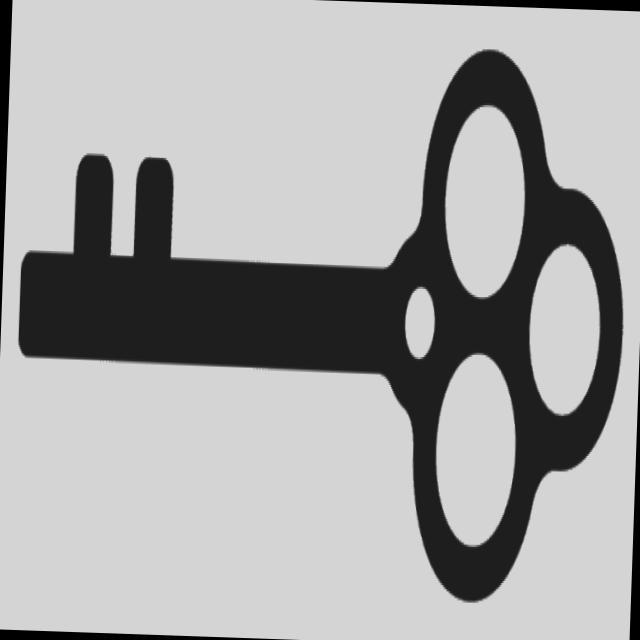key: (1, 21, 640, 620)
